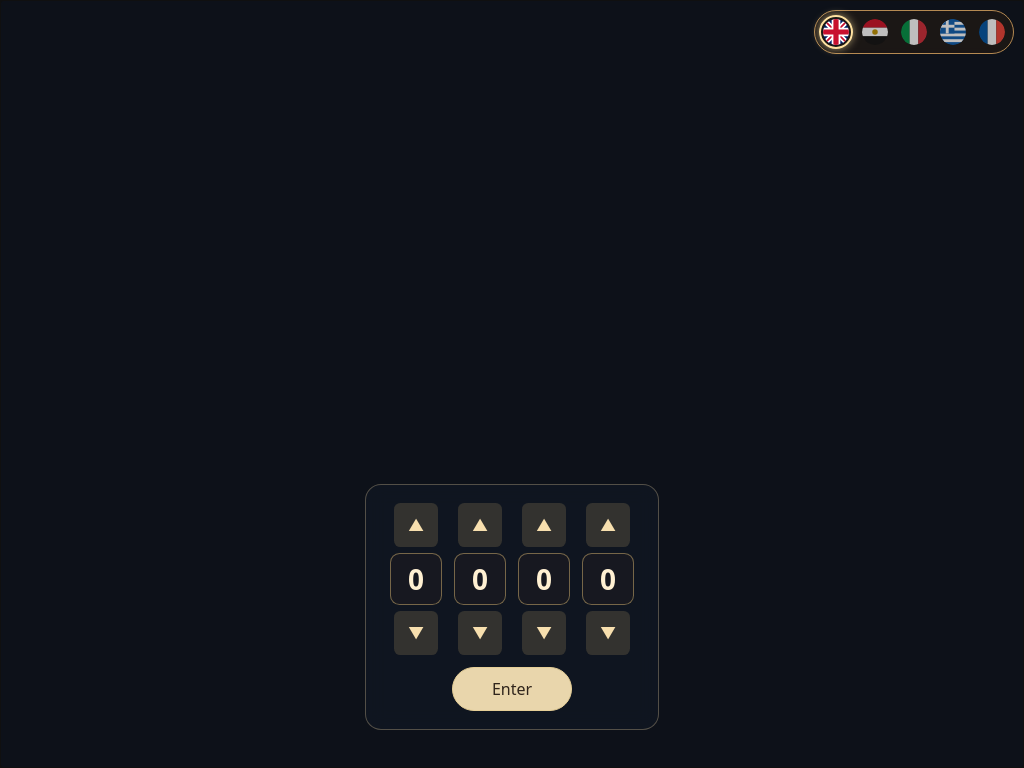
GatePage — successful login › opens the immersive flow without labs or an access banner, retaining discreet settings
Click the button "Enter": x=512, y=689 [452,667,572,711]
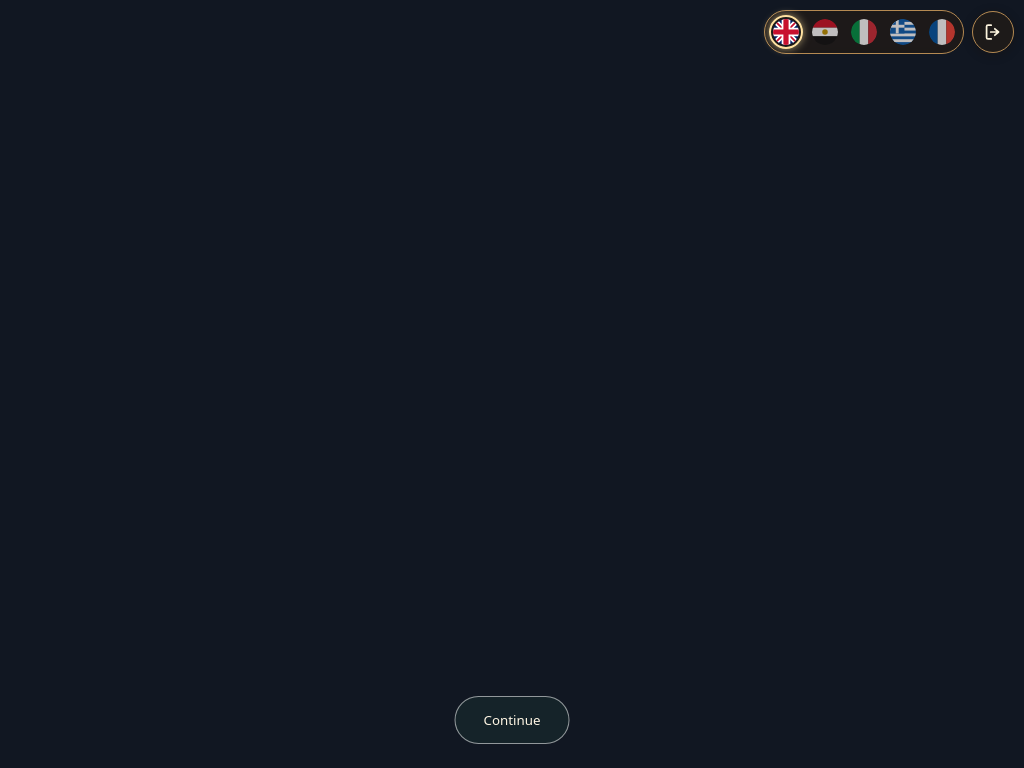
Now the element with test id "doors-opening-transition" is shown
Now the button named "log out" is shown, box [972,11,1014,53]
